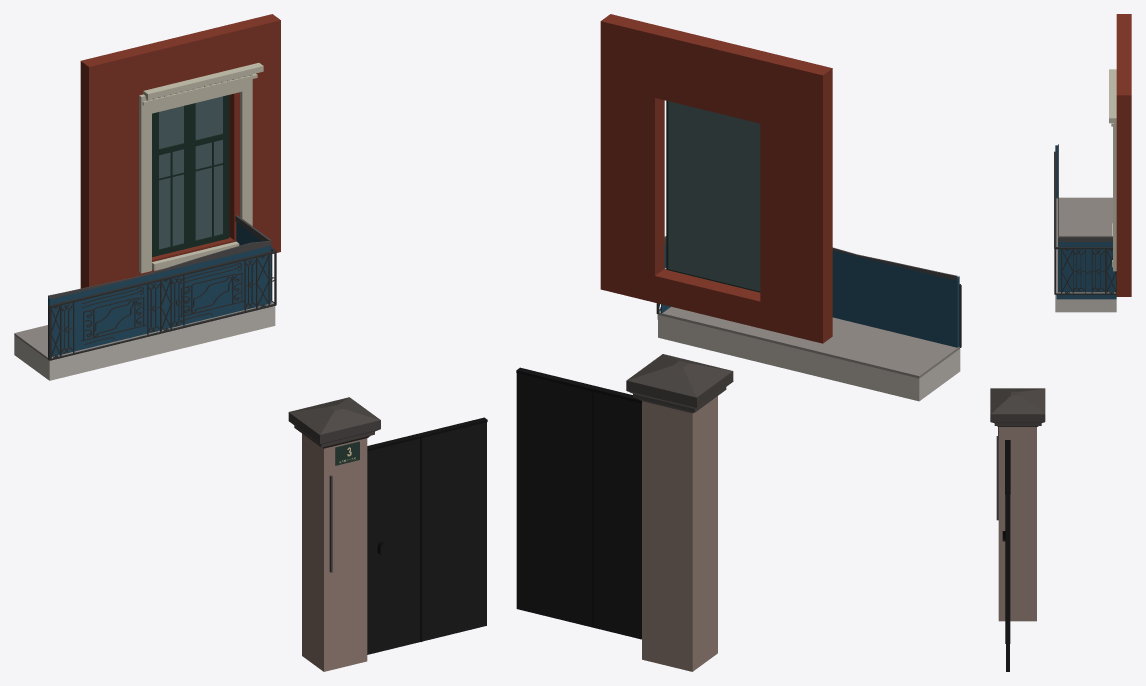
Rendered from full-source.glb.
3 views of the same model, side by side, from view 1: azimuth 30°, elevation 25°; view 2: azimuth 150°, elevation 25°; view 3: azimuth 270°, elevation 25° (orthographic). The views are drawn at different scales.
Visible parts, largest first — view 1: 大福里延庆路29弄3号院门与露台; view 2: 大福里延庆路29弄3号院门与露台; view 3: 大福里延庆路29弄3号院门与露台.
Part boxes in pixels (bbox=[...]): 大福里延庆路29弄3号院门与露台: bbox=[14, 14, 487, 671]; 大福里延庆路29弄3号院门与露台: bbox=[516, 14, 961, 671]; 大福里延庆路29弄3号院门与露台: bbox=[990, 14, 1131, 671].
Bounding box in the file's own units: 4.74 × 6.58 × 1.62.
